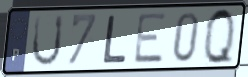0: (171, 11, 201, 65)
7: (68, 12, 99, 69)
E: (132, 11, 169, 66)
L: (101, 14, 128, 65)
Q: (203, 6, 237, 68)
U: (30, 13, 66, 69)
